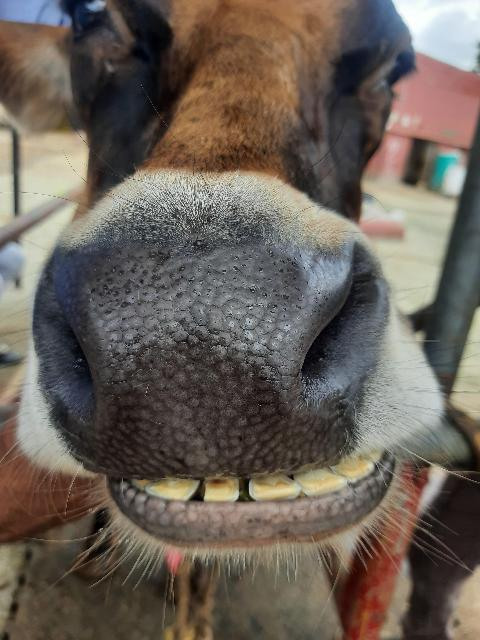Muzzle: (64, 258, 326, 468)
